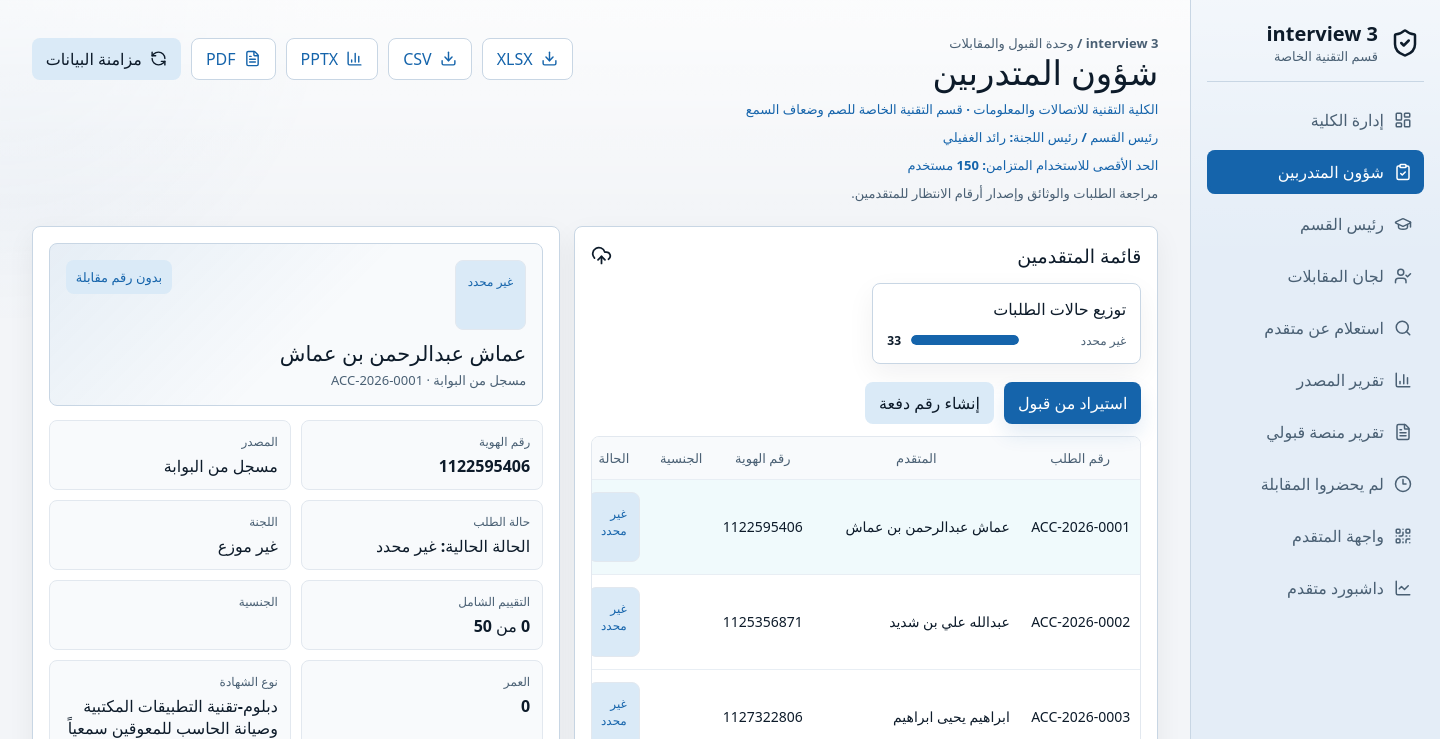
Test case: Interview management system › supports a separate applicant inquiry page
The image size is (1440, 739).
Click the button "استعلام عن متقدم" at (1316, 328), box [1207,306,1424,350]
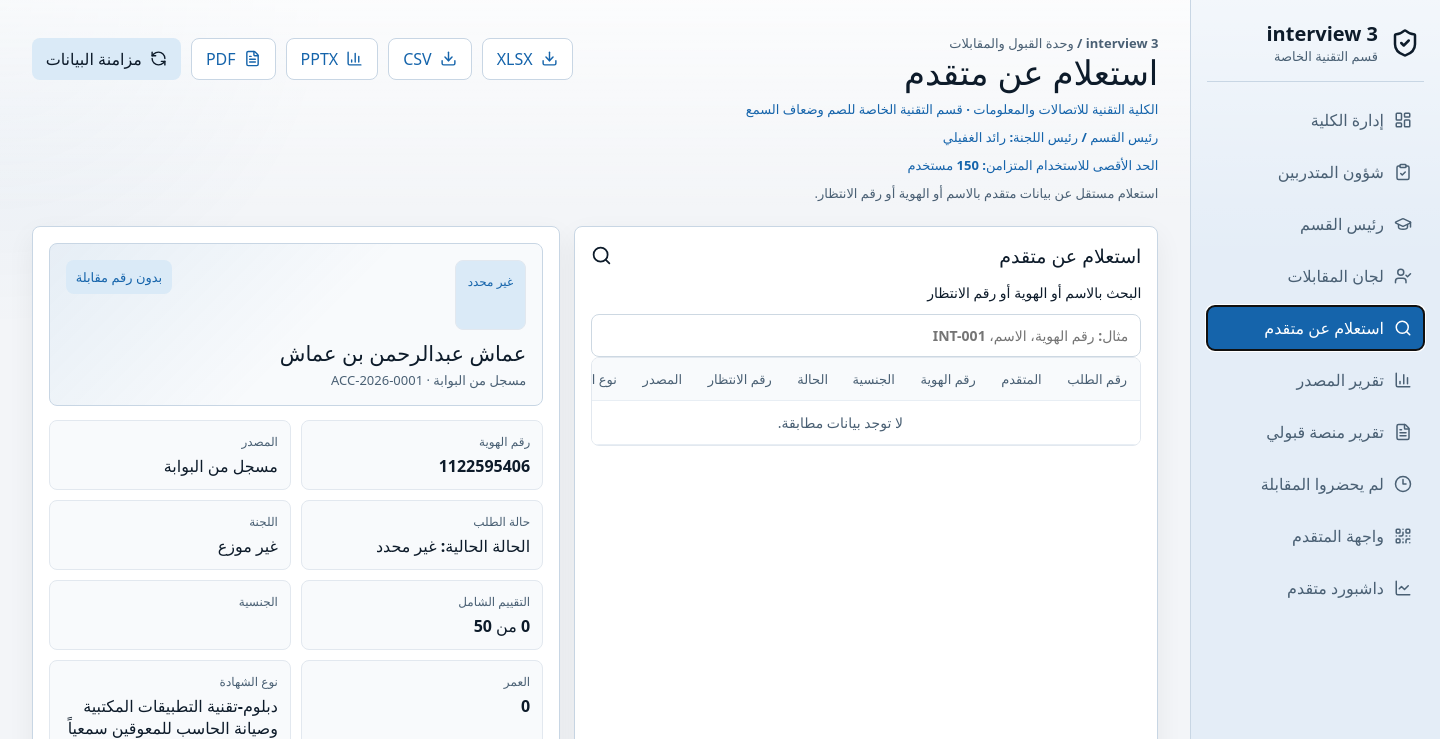
Type "1012345678" into the field named "بحث مستقل عن متقدم" at (866, 335), box [591,314,1141,357]
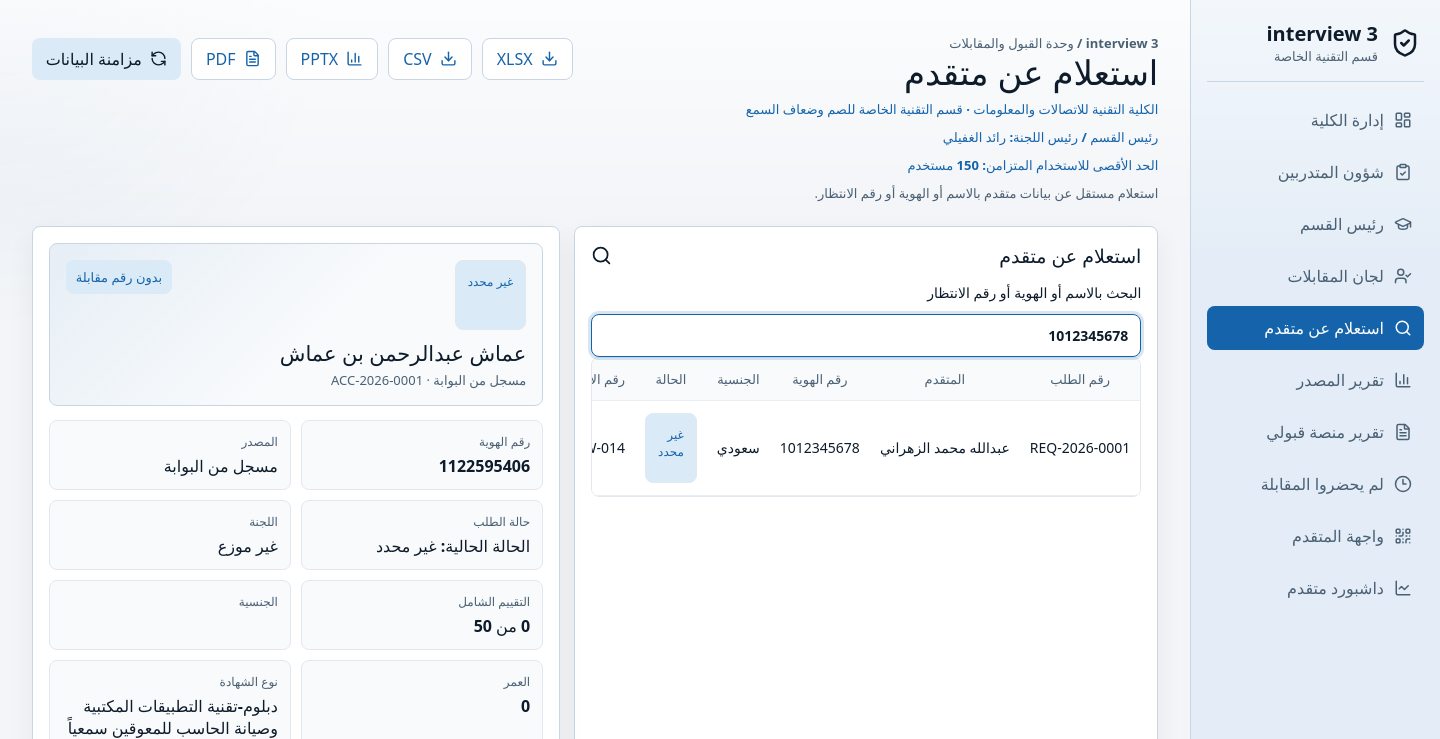
Check: the heading "استعلام عن متقدم" below "interview 3 / وحدة القبول والمقابلات" is shown, box [904,49,1158,95]
Check: the text "عبدالله محمد الزهراني" is shown, box [870,400,1020,495]
